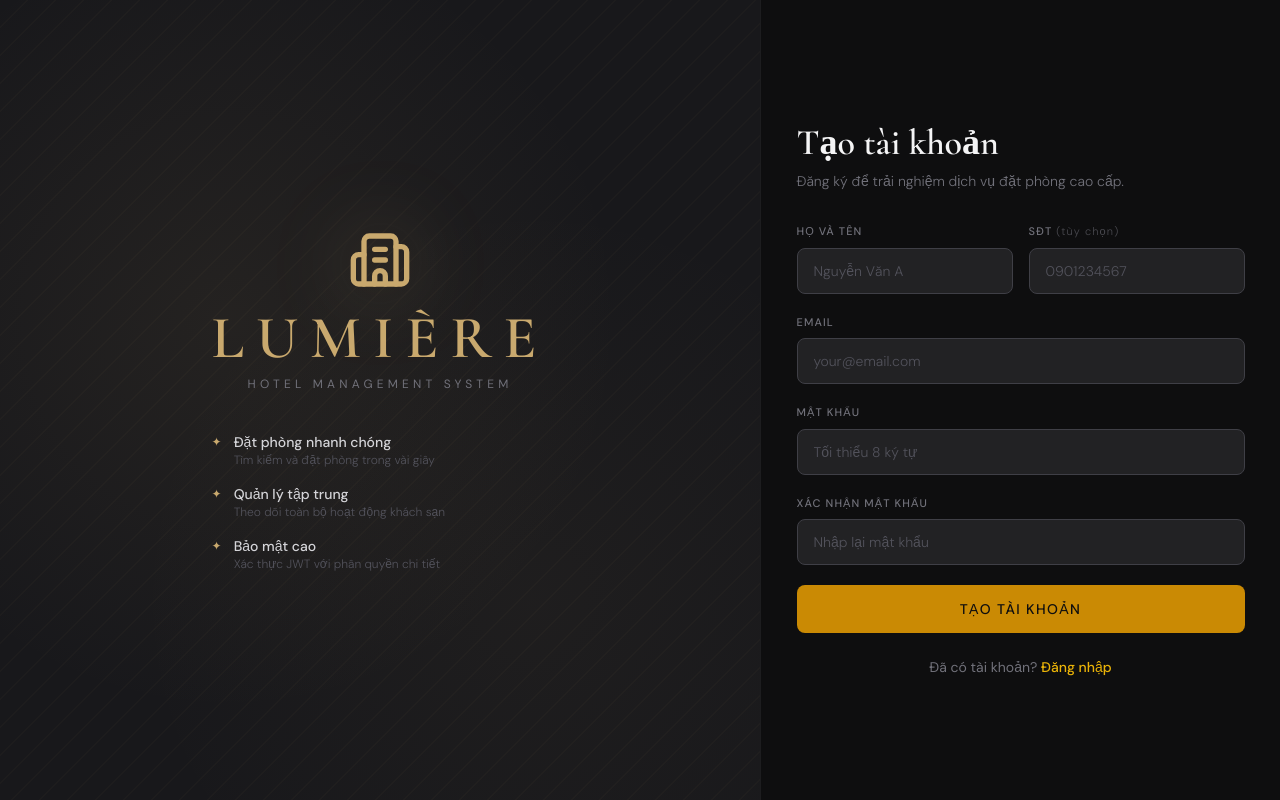
Test: RegisterPage › should show invalid email error
Type "invalid-email" into the field with placeholder "your@email.com" at x=1020, y=361, box left=796, top=338, right=1244, bottom=384
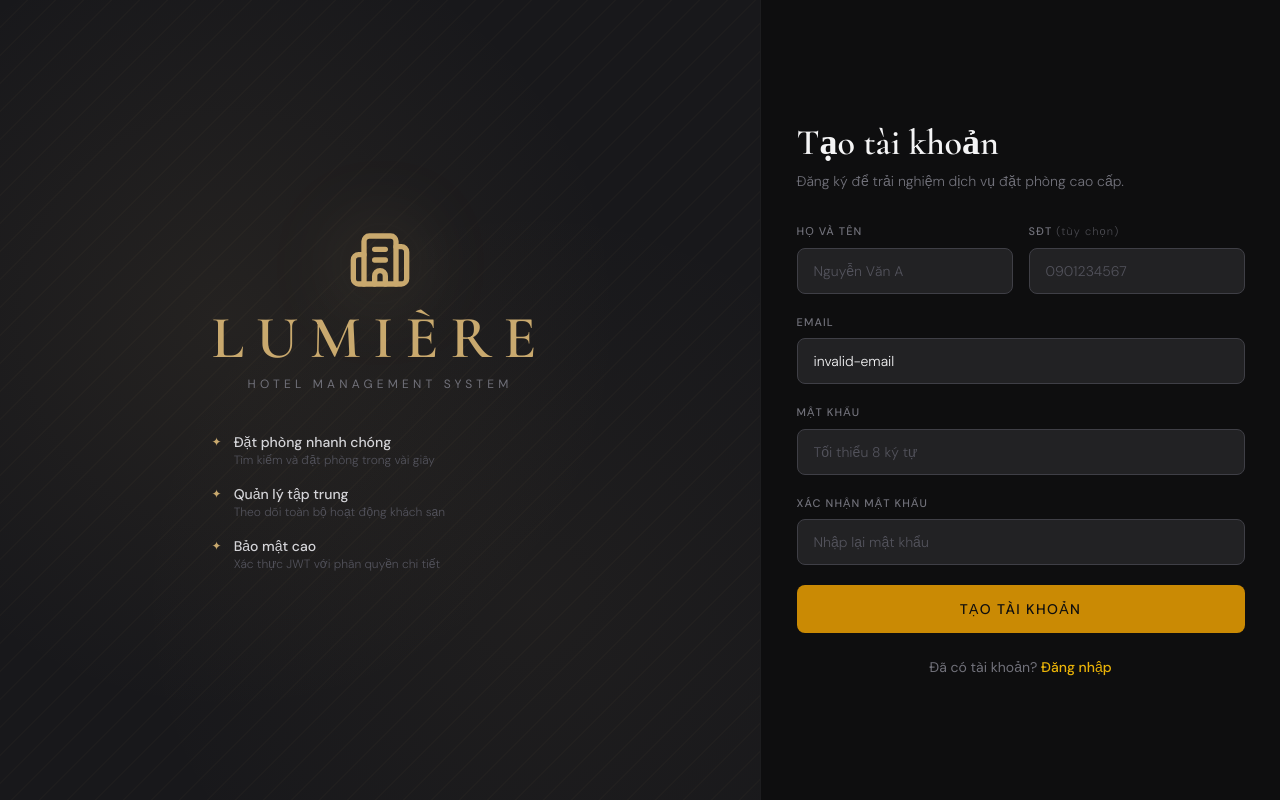
Leave the field with placeholder "your@email.com", box left=796, top=338, right=1244, bottom=384
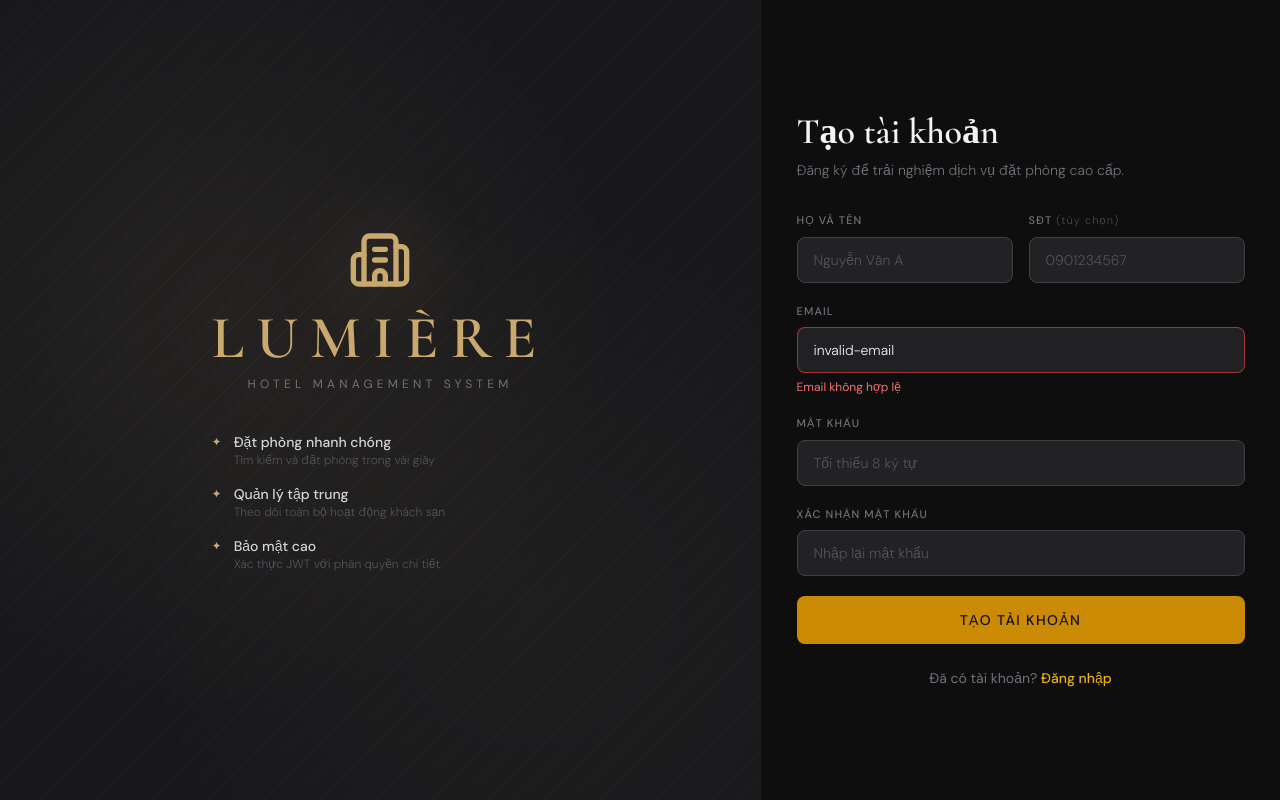
Now the text "Email không hợp lệ" is shown, box left=796, top=379, right=901, bottom=395
